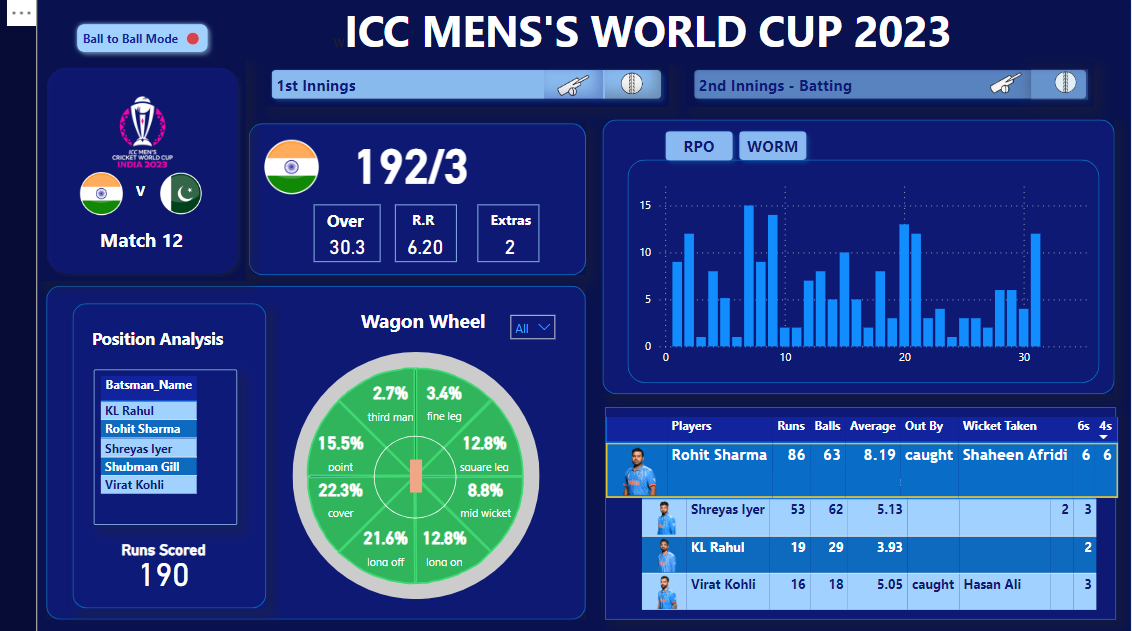

What the dashboard file says about the page in this screenshot:
{"tool":"powerbi","page":{"name":"pakvsind","canvas":[1280,720],"ordinal":2},"visuals":[{"type":"shape","box":[0,0,1280.8,720],"z":1000},{"type":"shape","box":[48.6,50.1,233.4,269.5],"z":1000,"group":"g3"},{"type":"shape","box":[57.9,325.6,607.8,376.3],"z":1500},{"type":"image","box":[41.7,72.9,249,163.8],"z":2000,"group":"g3"},{"type":"shape","box":[685,138.7,577.1,309.6],"z":2000},{"type":"image","box":[84.9,191.1,67.4,60.1],"z":3000,"group":"g3"},{"type":"shape","box":[86.8,345.2,218.3,343.7],"z":3000},{"type":"shape","box":[712.2,183.3,531.7,251.9],"z":4000},{"type":"image","box":[180,191.1,58.8,60.1],"z":4000,"group":"g3"},{"type":"textbox","box":[152.4,201.5,53.6,76.7],"z":5000,"group":"g3"},{"type":"shape","box":[96.2,503.1,199,114.9],"z":5000},{"type":"shape","box":[285.8,142.3,379.9,171.3],"z":6000},{"type":"textbox","box":[359.3,234,75,65],"z":7000},{"type":"group","id":"g1","title":"Group 2","box":[686.3,462,588.7,241.4],"z":9000},{"type":"slicer","fields":{"Values":["1st_inn_bat.Batsman_Runs"]},"box":[570.1,348,70.7,55.2],"z":10000},{"type":"group","id":"g2","title":"Group 1","box":[333.9,400.4,280,280],"z":11000},{"type":"card","fields":{"Values":["1st_inn_gen_stats.concat_score"]},"box":[389.4,126.1,191.9,113.5],"z":12000},{"type":"card","fields":{"Values":["1st_inn_gen_stats.bowler_ball_over"]},"box":[365,261,65.1,41],"z":13000},{"type":"image","box":[302.7,148.3,86.8,73.6],"z":14000},{"type":"textbox","box":[451.3,234,69.3,65],"z":15000},{"type":"card","fields":{"Values":["1st_inn_gen_stats.player_runrate"]},"box":[453.7,261,62.6,41],"z":16000},{"type":"shape","box":[686.3,462,577.5,239.4],"z":16000,"group":"g1"},{"type":"textbox","box":[544,234,69.6,65],"z":17000},{"type":"tableEx","fields":{"Values":["Min(indvspak_players.img_path)","1st_inn_bat.Batsman_Name","1st_inn_gen_stats.player_score_1","1st_inn_gen_stats.player_balls_1","1st_inn_gen_stats.player_runrate_1","1st_inn_gen_stats.howwicket_1","1st_inn_gen_stats.who_wicket_1","1st_inn_gen_stats.no_of_six_bat_1","1st_inn_gen_stats.no_of_4_bat_1"]},"box":[709.4,545,541.8,158.4],"z":17000,"group":"g1"},{"type":"card","fields":{"Values":["1st_inn_gen_stats.total_extra"]},"box":[546,261,68.2,41],"z":18000},{"type":"group","id":"g3","title":"Group 3","box":[41.7,50.1,249,323.2],"z":19000},{"type":"textbox","box":[95,253,134.9,120.3],"z":19001,"group":"g3"},{"type":"shape","box":[335.5,400.7,278.5,278.5],"z":19500,"group":"g2"},{"type":"shape","box":[0,0,48.1,720.1],"z":20000},{"type":"shapeMap","fields":{"Value":["1st_inn_gen_stats.field_percentage_1"],"Category":["1st_inn_bat.field"]},"box":[333.9,400.4,279.5,279.5],"z":20000,"group":"g2"},{"type":"tableEx","fields":{"Values":["Min(indvspak_players.img_path)","1st_inn_bat.Batsman_Name","1st_inn_gen_stats.player_score_1","1st_inn_gen_stats.player_balls_1","1st_inn_gen_stats.player_runrate_1","1st_inn_gen_stats.howwicket_1","1st_inn_gen_stats.who_wicket_1","1st_inn_gen_stats.no_of_six_bat_1","1st_inn_gen_stats.no_of_4_bat_1"]},"box":[686.3,484.7,588.7,88.2],"z":20000,"group":"g1"},{"type":"card","fields":{"Values":["1st_inn_gen_stats.long-on-card"]},"box":[467.5,591.2,77.5,56.1],"z":21000,"group":"g2"},{"type":"slicer","title":"Overs","fields":{"Values":["1st_inn_gen_stats.Over_No"]},"box":[114.3,624,77.2,59.1],"z":21000},{"type":"card","fields":{"Values":["1st_inn_gen_stats.mid-wicket-card"]},"box":[513.5,535.1,77.5,56.1],"z":22000,"group":"g2"},{"type":"slicer","title":"Ball","fields":{"Values":["1st_inn_gen_stats.Ball"]},"box":[197.7,624.3,72.1,58],"z":22000},{"type":"card","fields":{"Values":["1st_inn_gen_stats.square-card"]},"box":[512.4,483.5,77.5,56.1],"z":23000,"group":"g2"},{"type":"multiRowCard","fields":{"Values":["Min(1st_inn_bat.Batsman_Name)","1st_inn_gen_stats.Batsman_Style","1st_inn_gen_stats.Bowler_Name","1st_inn_gen_stats.player_score_1"]},"box":[180.9,506.8,125.4,114.6],"z":23000},{"type":"textbox","box":[109.7,511.4,73.6,44.6],"z":24000},{"type":"card","fields":{"Values":["1st_inn_gen_stats.long-off-card"]},"box":[401.3,591.2,77.5,56.1],"z":24000,"group":"g2"},{"type":"card","fields":{"Values":["1st_inn_gen_stats.cover-card"]},"box":[350.7,535.1,77.5,56.1],"z":25000,"group":"g2"},{"type":"textbox","box":[109.7,536.7,73.6,44.6],"z":25000},{"type":"card","fields":{"Values":["1st_inn_gen_stats.point-card"]},"box":[350.7,483.5,77.5,56.1],"z":26000,"group":"g2"},{"type":"textbox","box":[109.7,563.2,73.6,44.6],"z":26000},{"type":"card","fields":{"Values":["1st_inn_gen_stats.third-man-card"]},"box":[406.9,427.3,77.5,56.1],"z":27000,"group":"g2"},{"type":"textbox","box":[109.7,586.1,73.6,44.6],"z":27000},{"type":"actionButton","box":[747.2,142,93.7,51],"z":28000},{"type":"shape","box":[426.2,495.2,93.3,93.3],"z":28000,"group":"g2"},{"type":"actionButton","box":[829.7,142.7,93.7,50.4],"z":29000},{"type":"card","fields":{"Values":["1st_inn_gen_stats.fine-leg-card"]},"box":[467.5,422.9,77.5,64],"z":29000,"group":"g2"},{"type":"tableEx","fields":{"Values":["Min(indvspak_players.img_path)"]},"box":[118.2,360.6,141.1,156.8],"z":30000},{"type":"shape","box":[467.3,522,14,37.2],"z":30000,"group":"g2"},{"type":"textbox","box":[375.4,0,742.4,77],"z":31000},{"type":"actionButton","box":[302.6,72.8,456.6,50.4],"z":32000},{"type":"actionButton","box":[778.8,72.8,459.4,50.4],"z":33000},{"type":"textbox","box":[126.6,344.9,130.3,38.6],"z":34000},{"type":"textbox","box":[404,344.9,185.7,48.2],"z":35000},{"type":"image","box":[617.7,60,67.2,76],"z":36000},{"type":"image","box":[696.2,70,46,54],"z":37000},{"type":"actionButton","box":[618.7,82,67.2,35],"z":38000},{"type":"actionButton","box":[687.3,80.8,64,34],"z":39000},{"type":"stackedAreaChart","fields":{"Category":["1st_inn_gen_stats.Over_No"]},"box":[730.6,210.1,517.7,223.9],"z":40000},{"type":"areaChart","fields":{"Category":["1st_inn_gen_stats.Ball_Number"],"Y":["Max(1st_inn_gen_stats.Score)"],"Y2":["1st_inn_gen_stats.wickets1"]},"box":[736.9,196.6,481.2,224.3],"z":41000},{"type":"image","box":[1106.3,58.4,67.2,76],"z":42000},{"type":"image","box":[1184.7,68.4,46,54],"z":43000},{"type":"actionButton","box":[1098.6,82.3,67.2,35],"z":44000},{"type":"actionButton","box":[1167.2,81.2,64,34],"z":45000}]}

Visuals, with their boxes on the page's 1280x720 design canvas (x1, y1, x2, y2). These are canvas units, not pixel positions in the 1132x631 screenshot, which may show the page scaled, cropped or inside an application window:
shape: {"x1": 0, "y1": 0, "x2": 1281, "y2": 720}
shape: {"x1": 49, "y1": 50, "x2": 282, "y2": 320}
shape: {"x1": 58, "y1": 326, "x2": 666, "y2": 702}
image: {"x1": 42, "y1": 73, "x2": 291, "y2": 237}
shape: {"x1": 685, "y1": 139, "x2": 1262, "y2": 448}
image: {"x1": 85, "y1": 191, "x2": 152, "y2": 251}
shape: {"x1": 87, "y1": 345, "x2": 305, "y2": 689}
shape: {"x1": 712, "y1": 183, "x2": 1244, "y2": 435}
image: {"x1": 180, "y1": 191, "x2": 239, "y2": 251}
textbox: {"x1": 152, "y1": 202, "x2": 206, "y2": 278}
shape: {"x1": 96, "y1": 503, "x2": 295, "y2": 618}
shape: {"x1": 286, "y1": 142, "x2": 666, "y2": 314}
textbox: {"x1": 359, "y1": 234, "x2": 434, "y2": 299}
"Group 2" group: {"x1": 686, "y1": 462, "x2": 1275, "y2": 703}
slicer - 1st_inn_bat.Batsman_Runs: {"x1": 570, "y1": 348, "x2": 641, "y2": 403}
"Group 1" group: {"x1": 334, "y1": 400, "x2": 614, "y2": 680}
card - 1st_inn_gen_stats.concat_score: {"x1": 389, "y1": 126, "x2": 581, "y2": 240}
card - 1st_inn_gen_stats.bowler_ball_over: {"x1": 365, "y1": 261, "x2": 430, "y2": 302}
image: {"x1": 303, "y1": 148, "x2": 390, "y2": 222}
textbox: {"x1": 451, "y1": 234, "x2": 521, "y2": 299}
card - 1st_inn_gen_stats.player_runrate: {"x1": 454, "y1": 261, "x2": 516, "y2": 302}
shape: {"x1": 686, "y1": 462, "x2": 1264, "y2": 701}
textbox: {"x1": 544, "y1": 234, "x2": 614, "y2": 299}
tableEx - Min(indvspak_players.img_path) x 1st_inn_bat.Batsman_Name: {"x1": 709, "y1": 545, "x2": 1251, "y2": 703}
card - 1st_inn_gen_stats.total_extra: {"x1": 546, "y1": 261, "x2": 614, "y2": 302}
"Group 3" group: {"x1": 42, "y1": 50, "x2": 291, "y2": 373}
textbox: {"x1": 95, "y1": 253, "x2": 230, "y2": 373}
shape: {"x1": 336, "y1": 401, "x2": 614, "y2": 679}
shape: {"x1": 0, "y1": 0, "x2": 48, "y2": 720}
shapeMap - 1st_inn_gen_stats.field_percentage_1 x 1st_inn_bat.field: {"x1": 334, "y1": 400, "x2": 613, "y2": 680}
tableEx - Min(indvspak_players.img_path) x 1st_inn_bat.Batsman_Name: {"x1": 686, "y1": 485, "x2": 1275, "y2": 573}
card - 1st_inn_gen_stats.long-on-card: {"x1": 468, "y1": 591, "x2": 545, "y2": 647}
"Overs" slicer: {"x1": 114, "y1": 624, "x2": 192, "y2": 683}
card - 1st_inn_gen_stats.mid-wicket-card: {"x1": 514, "y1": 535, "x2": 591, "y2": 591}
"Ball" slicer: {"x1": 198, "y1": 624, "x2": 270, "y2": 682}
card - 1st_inn_gen_stats.square-card: {"x1": 512, "y1": 484, "x2": 590, "y2": 540}
multiRowCard - Min(1st_inn_bat.Batsman_Name) x 1st_inn_gen_stats.Batsman_Style: {"x1": 181, "y1": 507, "x2": 306, "y2": 621}
textbox: {"x1": 110, "y1": 511, "x2": 183, "y2": 556}
card - 1st_inn_gen_stats.long-off-card: {"x1": 401, "y1": 591, "x2": 479, "y2": 647}
card - 1st_inn_gen_stats.cover-card: {"x1": 351, "y1": 535, "x2": 428, "y2": 591}
textbox: {"x1": 110, "y1": 537, "x2": 183, "y2": 581}
card - 1st_inn_gen_stats.point-card: {"x1": 351, "y1": 484, "x2": 428, "y2": 540}
textbox: {"x1": 110, "y1": 563, "x2": 183, "y2": 608}
card - 1st_inn_gen_stats.third-man-card: {"x1": 407, "y1": 427, "x2": 484, "y2": 483}
textbox: {"x1": 110, "y1": 586, "x2": 183, "y2": 631}
actionButton: {"x1": 747, "y1": 142, "x2": 841, "y2": 193}
shape: {"x1": 426, "y1": 495, "x2": 520, "y2": 588}
actionButton: {"x1": 830, "y1": 143, "x2": 923, "y2": 193}
card - 1st_inn_gen_stats.fine-leg-card: {"x1": 468, "y1": 423, "x2": 545, "y2": 487}
tableEx - Min(indvspak_players.img_path): {"x1": 118, "y1": 361, "x2": 259, "y2": 517}
shape: {"x1": 467, "y1": 522, "x2": 481, "y2": 559}
textbox: {"x1": 375, "y1": 0, "x2": 1118, "y2": 77}
actionButton: {"x1": 303, "y1": 73, "x2": 759, "y2": 123}
actionButton: {"x1": 779, "y1": 73, "x2": 1238, "y2": 123}
textbox: {"x1": 127, "y1": 345, "x2": 257, "y2": 384}
textbox: {"x1": 404, "y1": 345, "x2": 590, "y2": 393}
image: {"x1": 618, "y1": 60, "x2": 685, "y2": 136}
image: {"x1": 696, "y1": 70, "x2": 742, "y2": 124}
actionButton: {"x1": 619, "y1": 82, "x2": 686, "y2": 117}
actionButton: {"x1": 687, "y1": 81, "x2": 751, "y2": 115}
stackedAreaChart - 1st_inn_gen_stats.Over_No: {"x1": 731, "y1": 210, "x2": 1248, "y2": 434}
areaChart - 1st_inn_gen_stats.Ball_Number x Max(1st_inn_gen_stats.Score): {"x1": 737, "y1": 197, "x2": 1218, "y2": 421}
image: {"x1": 1106, "y1": 58, "x2": 1174, "y2": 134}
image: {"x1": 1185, "y1": 68, "x2": 1231, "y2": 122}
actionButton: {"x1": 1099, "y1": 82, "x2": 1166, "y2": 117}
actionButton: {"x1": 1167, "y1": 81, "x2": 1231, "y2": 115}
